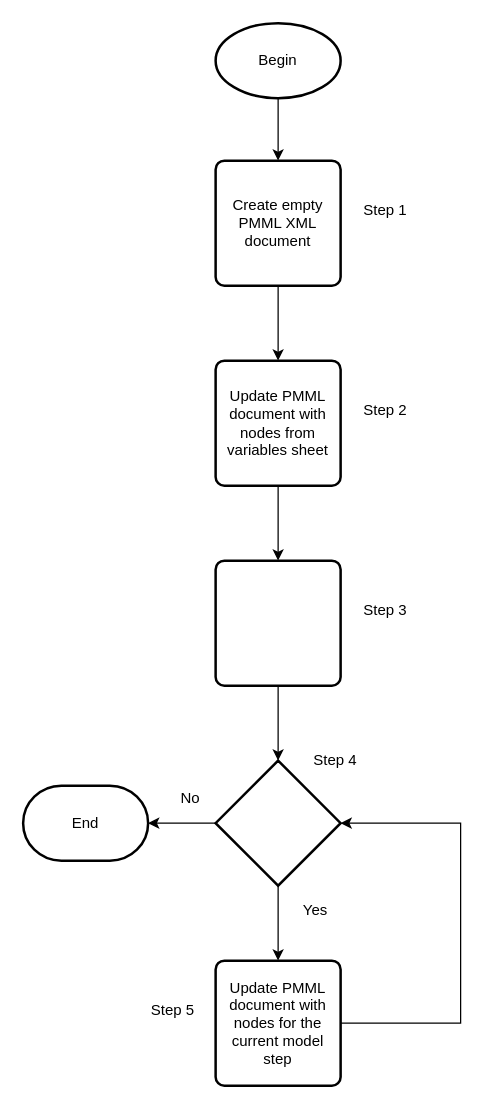
The diagram is 493 pixels wide and 1108 high, and some of its shapes have lost their labels. Each missing label, with the box of its shape:
Are there model steps to process?: (214, 759, 341, 886)
Update PMML document with nodes from variable details sheet: (214, 559, 341, 686)
